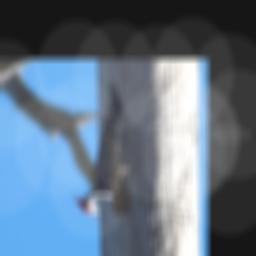Woodpecker: (73, 80, 142, 219)
